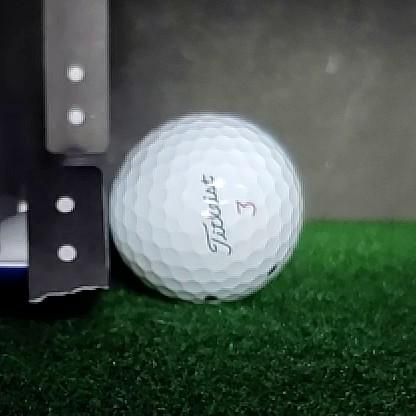golfball: (109, 114, 303, 305)
